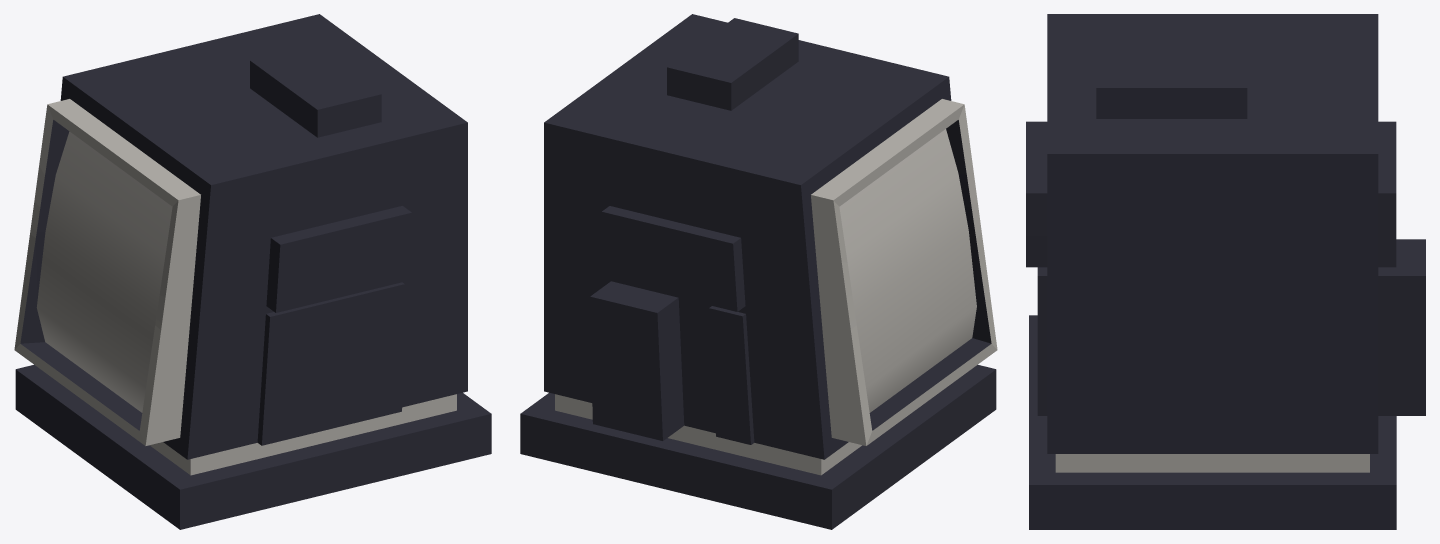
The model's file is Computer.fbx.
The picture shows the model from 3 angles, left to right: view 1: azimuth 30°, elevation 25°; view 2: azimuth 150°, elevation 25°; view 3: azimuth 270°, elevation 25°; orthographic projection. The views are drawn at different scales.
Visible parts, largest first — view 1: Computer, Screen; view 2: Computer, Screen; view 3: Computer.
Part boxes in pixels (bbox=[...]): Computer: bbox=[14, 14, 491, 529]; Screen: bbox=[36, 131, 172, 412]; Computer: bbox=[520, 14, 997, 529]; Screen: bbox=[839, 129, 976, 412]; Computer: bbox=[1026, 14, 1425, 529].
Size of the model in its own units: 0.6619 by 0.686 by 0.6235.
